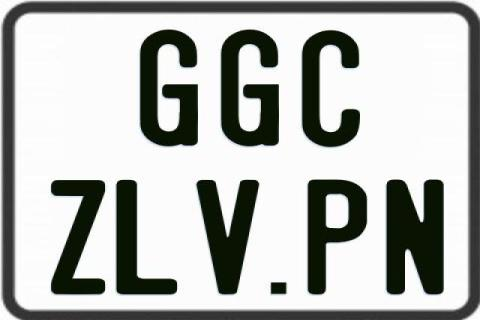C: (302, 28, 364, 150)
G: (221, 30, 284, 150), (140, 27, 199, 144)
L: (115, 178, 182, 296)
N: (385, 179, 447, 296)
P: (308, 178, 371, 292)
V: (195, 179, 260, 297)
Z: (49, 179, 105, 295)
